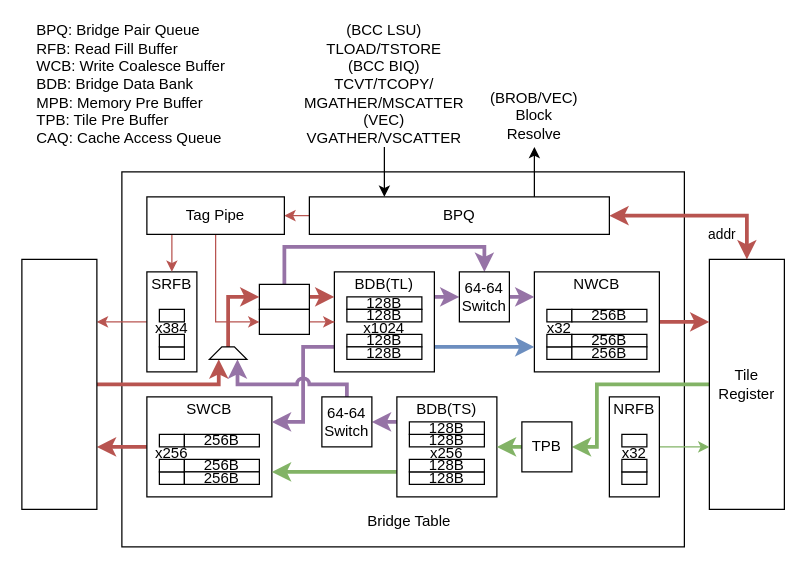
This 806x569 diagram has some shape labels left out. Each missing label, with the centre of its shape:
"CAQ" belongs at [283,321].
"Global Memory" belongs at [59,383].
"MPB" belongs at [283,296].
